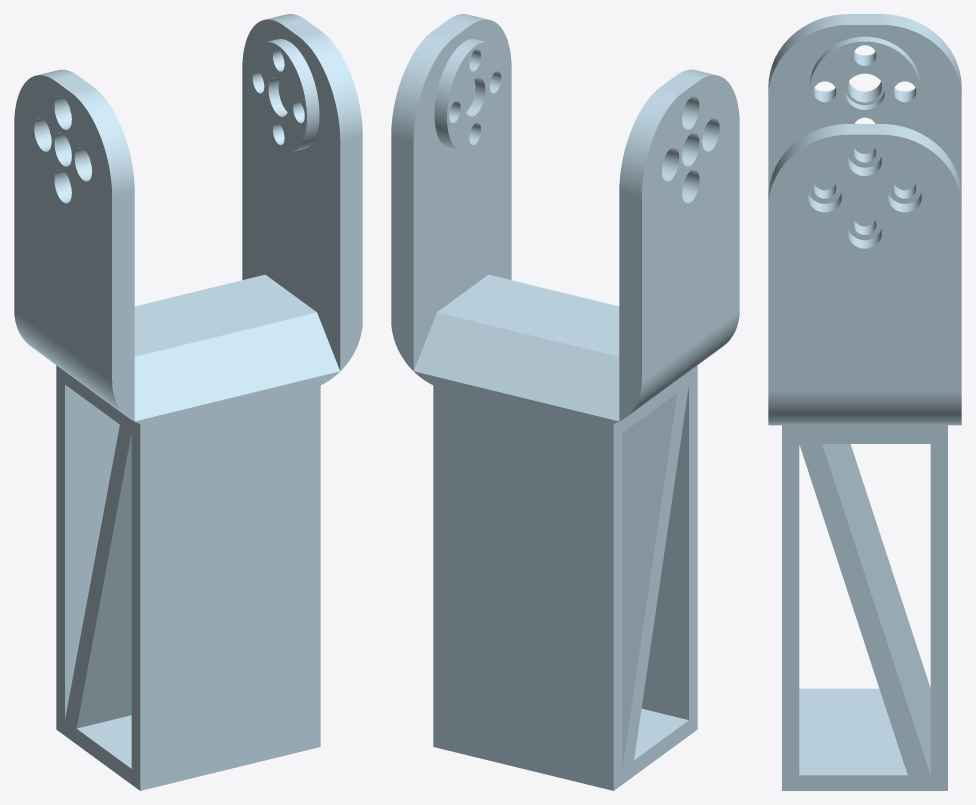
3 renders of one model, left to right at view 1: azimuth 30°, elevation 25°; view 2: azimuth 150°, elevation 25°; view 3: azimuth 270°, elevation 25°, orthographic.
Visible parts, largest first — view 1: mesh358, mesh362, mesh344, mesh380, mesh346, mesh353, mesh382, mesh345, mesh385, mesh326, mesh352, mesh342 (+3 smaller); view 2: mesh359, mesh362, mesh344, mesh380, mesh347, mesh348, mesh383, mesh384, mesh345, mesh326, mesh349, mesh341 (+3 smaller); view 3: mesh340, mesh379, mesh354, mesh383, mesh386, mesh357, mesh375, mesh341, mesh342, mesh349, mesh352, mesh361 (+1 smaller).
Part boxes in pixels (x1=…): mesh358: x1=140, y1=385, x2=320, y2=790; mesh362: x1=14, y1=75, x2=111, y2=381; mesh344: x1=242, y1=19, x2=340, y2=370; mesh380: x1=56, y1=365, x2=140, y2=790; mesh346: x1=134, y1=312, x2=339, y2=421; mesh353: x1=112, y1=136, x2=362, y2=425; mesh382: x1=65, y1=384, x2=119, y2=718; mesh345: x1=134, y1=274, x2=316, y2=356; mesh385: x1=76, y1=433, x2=131, y2=728; mesh326: x1=250, y1=42, x2=306, y2=152; mesh352: x1=71, y1=87, x2=134, y2=196; mesh342: x1=299, y1=31, x2=362, y2=140; mesh359: x1=433, y1=385, x2=613, y2=790; mesh362: x1=642, y1=75, x2=739, y2=381; mesh344: x1=413, y1=19, x2=511, y2=370; mesh380: x1=613, y1=365, x2=697, y2=790; mesh347: x1=414, y1=312, x2=619, y2=421; mesh348: x1=391, y1=136, x2=641, y2=425; mesh383: x1=622, y1=393, x2=677, y2=768; mesh384: x1=641, y1=386, x2=688, y2=719; mesh345: x1=437, y1=274, x2=619, y2=356; mesh326: x1=447, y1=42, x2=503, y2=152; mesh349: x1=619, y1=87, x2=682, y2=196; mesh341: x1=391, y1=31, x2=454, y2=140; mesh340: x1=768, y1=134, x2=961, y2=390; mesh379: x1=782, y1=425, x2=947, y2=790; mesh354: x1=768, y1=25, x2=961, y2=226; mesh383: x1=822, y1=444, x2=930, y2=774; mesh386: x1=799, y1=688, x2=907, y2=775; mesh357: x1=768, y1=390, x2=961, y2=425; mesh375: x1=809, y1=41, x2=920, y2=126; mesh341: x1=881, y1=124, x2=961, y2=204; mesh342: x1=768, y1=124, x2=848, y2=204; mesh349: x1=881, y1=14, x2=961, y2=94; mesh352: x1=768, y1=14, x2=848, y2=94; mesh361: x1=809, y1=36, x2=920, y2=90.
Bounding box in the file's own units: 0.05 × 0.13 × 0.0338.
